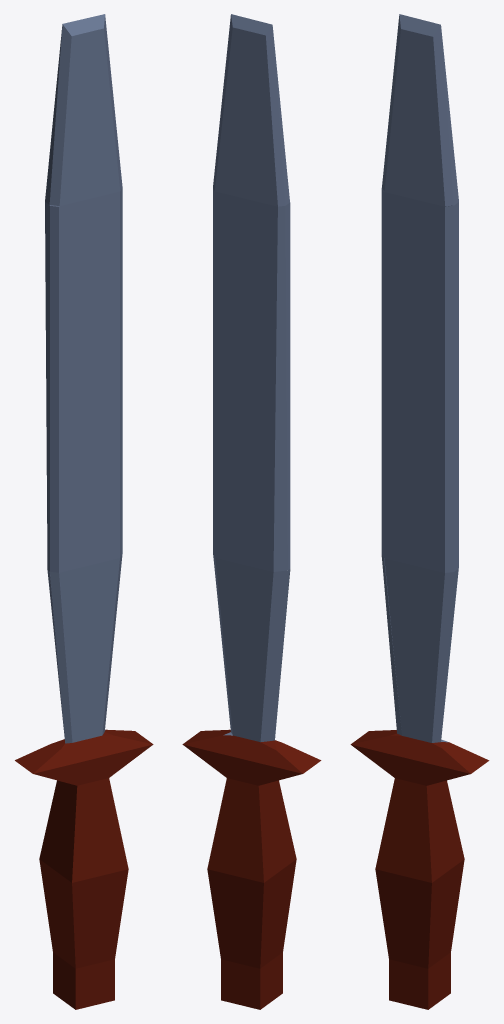
The model's file is sword.fbx.
3 views of the same model, side by side, from view 1: azimuth 30°, elevation 25°; view 2: azimuth 150°, elevation 25°; view 3: azimuth 330°, elevation 25° (orthographic).
Visible parts, largest first — view 1: Cube; view 2: Cube; view 3: Cube.
Part boxes in pixels (<box>): Cube: <box>15,14,153,1009</box>; Cube: <box>182,14,321,1009</box>; Cube: <box>350,14,489,1009</box>.
Bounding box in the file's own units: 614 × 4751 × 288.
